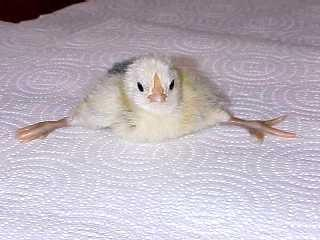AbNormal: (16, 43, 320, 161)
